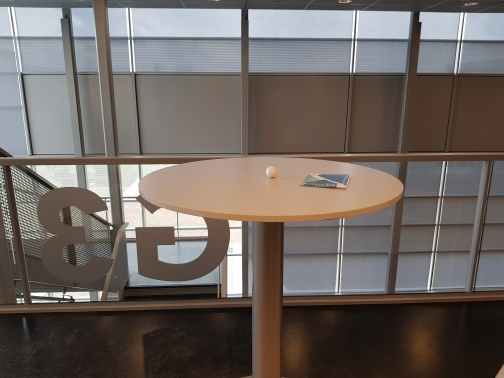egg: (264, 165, 279, 179)
